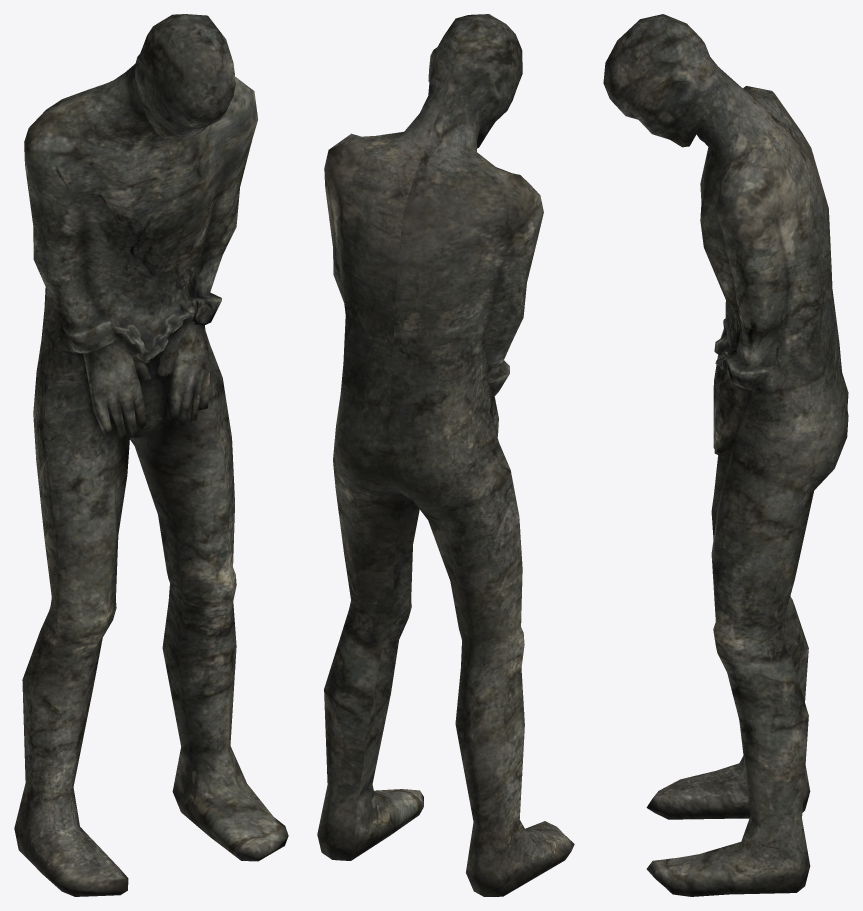
File: crude_man_chains_statue.dae
The picture shows the model from 3 angles, left to right: view 1: azimuth 30°, elevation 25°; view 2: azimuth 150°, elevation 25°; view 3: azimuth 270°, elevation 25°; orthographic projection. The views are drawn at different scales.
Parts seen in each view (by area): view 1: crude_man_chains_statue; view 2: crude_man_chains_statue; view 3: crude_man_chains_statue.
Part boxes in pixels (bbox=[...]): crude_man_chains_statue: bbox=[14, 14, 288, 896]; crude_man_chains_statue: bbox=[317, 14, 574, 896]; crude_man_chains_statue: bbox=[603, 14, 848, 896].
Bounding box in the file's own units: 0.5344 × 1.92 × 0.5114.
